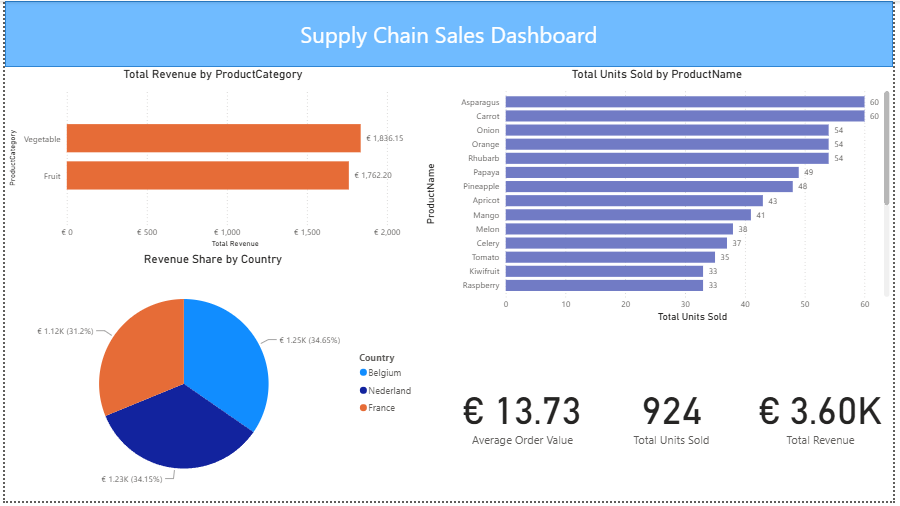

The page's visual inventory and layout, read from the dashboard file:
{"tool":"powerbi","page":{"name":"Page 1","canvas":[1280,720],"ordinal":0},"visuals":[{"type":"card","fields":{"Values":["cleaned_sales.Total Revenue"]},"box":[1068.5,468,211.7,252],"z":0},{"type":"card","fields":{"Values":["cleaned_sales.Total Units Sold"]},"box":[851,466.6,217.4,253.4],"z":1000},{"type":"card","fields":{"Values":["cleaned_sales.Average Order Value"]},"box":[639.4,468,211.7,252],"z":2000},{"type":"barChart","fields":{"Category":["cleaned_products.ProductCategory"],"Y":["cleaned_sales.Total Revenue"]},"box":[0,95,599,265],"z":3000},{"type":"barChart","fields":{"Category":["cleaned_products.ProductName"],"Y":["cleaned_sales.Total Units Sold"]},"box":[599,95,679.7,373],"z":4000},{"type":"pieChart","title":"Revenue Share by Country","fields":{"Category":["cleaned_customers.Country"],"Y":["cleaned_sales.Total Revenue"]},"box":[0,361.4,599,358.6],"z":4001},{"type":"textbox","box":[0,0,1278.7,95],"z":4002},{"type":"shape","title":"Supply Chain Sales Dashboard","box":[0,0,1278.7,95],"z":4003}]}

Visuals, with their boxes in screenshot pixels (x1, y1, x2, y2), scaled from the page's 1280x720 canvas onto the 900x506 screenshot:
card - cleaned_sales.Total Revenue: x1=751, y1=329, x2=899, y2=505
card - cleaned_sales.Total Units Sold: x1=598, y1=328, x2=751, y2=505
card - cleaned_sales.Average Order Value: x1=450, y1=329, x2=598, y2=505
barChart - cleaned_products.ProductCategory x cleaned_sales.Total Revenue: x1=0, y1=67, x2=421, y2=253
barChart - cleaned_products.ProductName x cleaned_sales.Total Units Sold: x1=421, y1=67, x2=899, y2=329
"Revenue Share by Country" pieChart: x1=0, y1=254, x2=421, y2=505
textbox: x1=0, y1=0, x2=899, y2=67
"Supply Chain Sales Dashboard" shape: x1=0, y1=0, x2=899, y2=67
